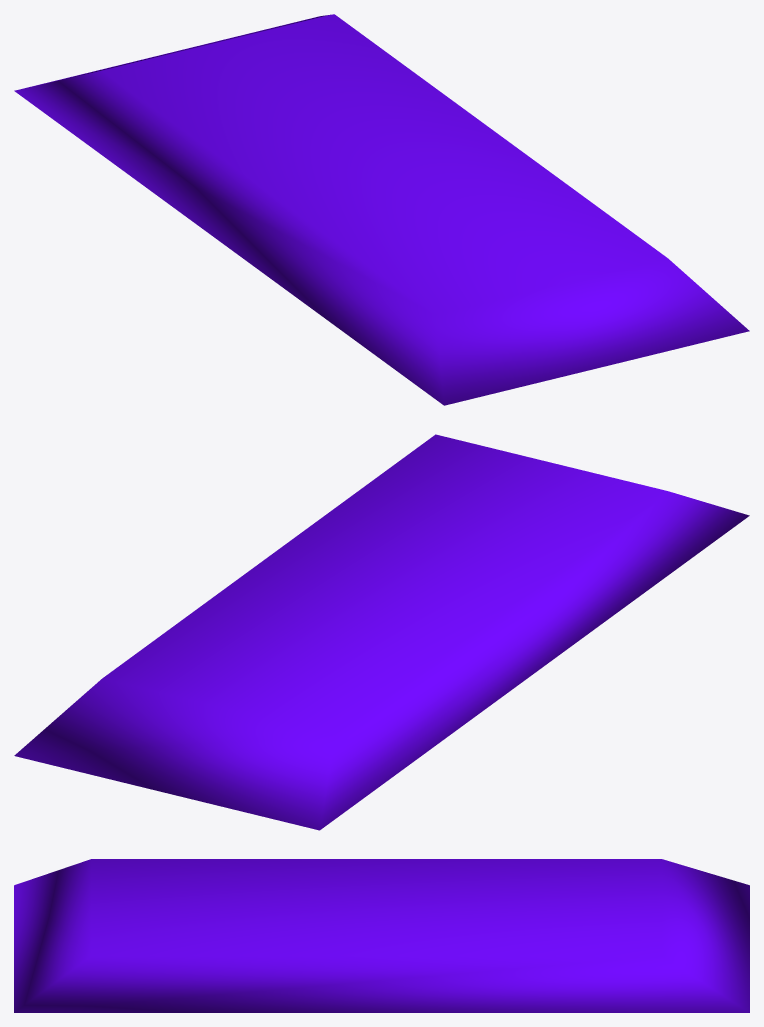
The model's file is hospital_staff_medicine_pillSheet_2_meshCollider.fbx.
The picture shows the model from 3 angles, top to bottom: view 1: azimuth 30°, elevation 25°; view 2: azimuth 150°, elevation 25°; view 3: azimuth 270°, elevation 25°; orthographic projection. The views are drawn at different scales.
Parts seen in each view (by area): view 1: hospital_staff_medicine_pillSheet_2_meshCollider; view 2: hospital_staff_medicine_pillSheet_2_meshCollider; view 3: hospital_staff_medicine_pillSheet_2_meshCollider.
Boxes of the visible parts, <box> form: hospital_staff_medicine_pillSheet_2_meshCollider: <box>14,14,749,405</box>; hospital_staff_medicine_pillSheet_2_meshCollider: <box>14,434,749,830</box>; hospital_staff_medicine_pillSheet_2_meshCollider: <box>14,859,749,1012</box>.
Bounding box in the file's own units: 9.76 × 1.49 × 23.8.
